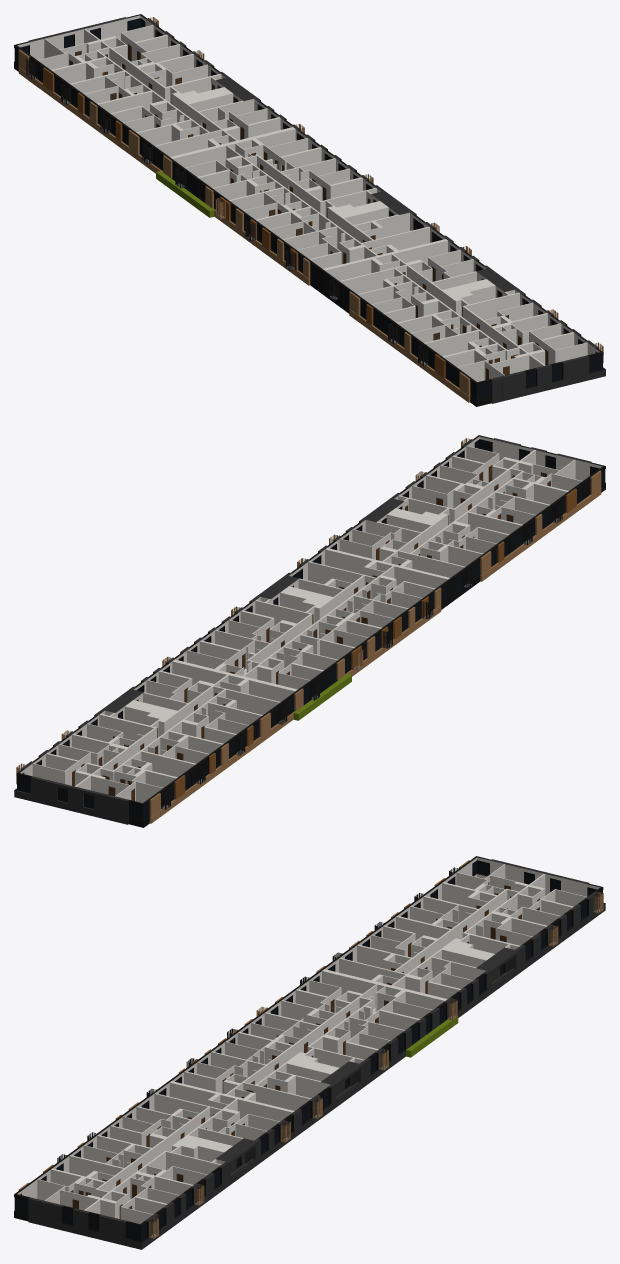
The model's file is floor_8.FBX.
3 renders of one model, top to bottom at view 1: azimuth 30°, elevation 25°; view 2: azimuth 150°, elevation 25°; view 3: azimuth 330°, elevation 25°, orthographic.
Visible parts, largest first — view 1: floor_8; view 2: floor_8; view 3: floor_8.
Boxes of the visible parts, bbox=[...] form: floor_8: bbox=[14, 14, 605, 406]; floor_8: bbox=[14, 435, 605, 827]; floor_8: bbox=[14, 856, 605, 1249].
Bounding box in the file's own units: 18.75 × 3 × 108.
